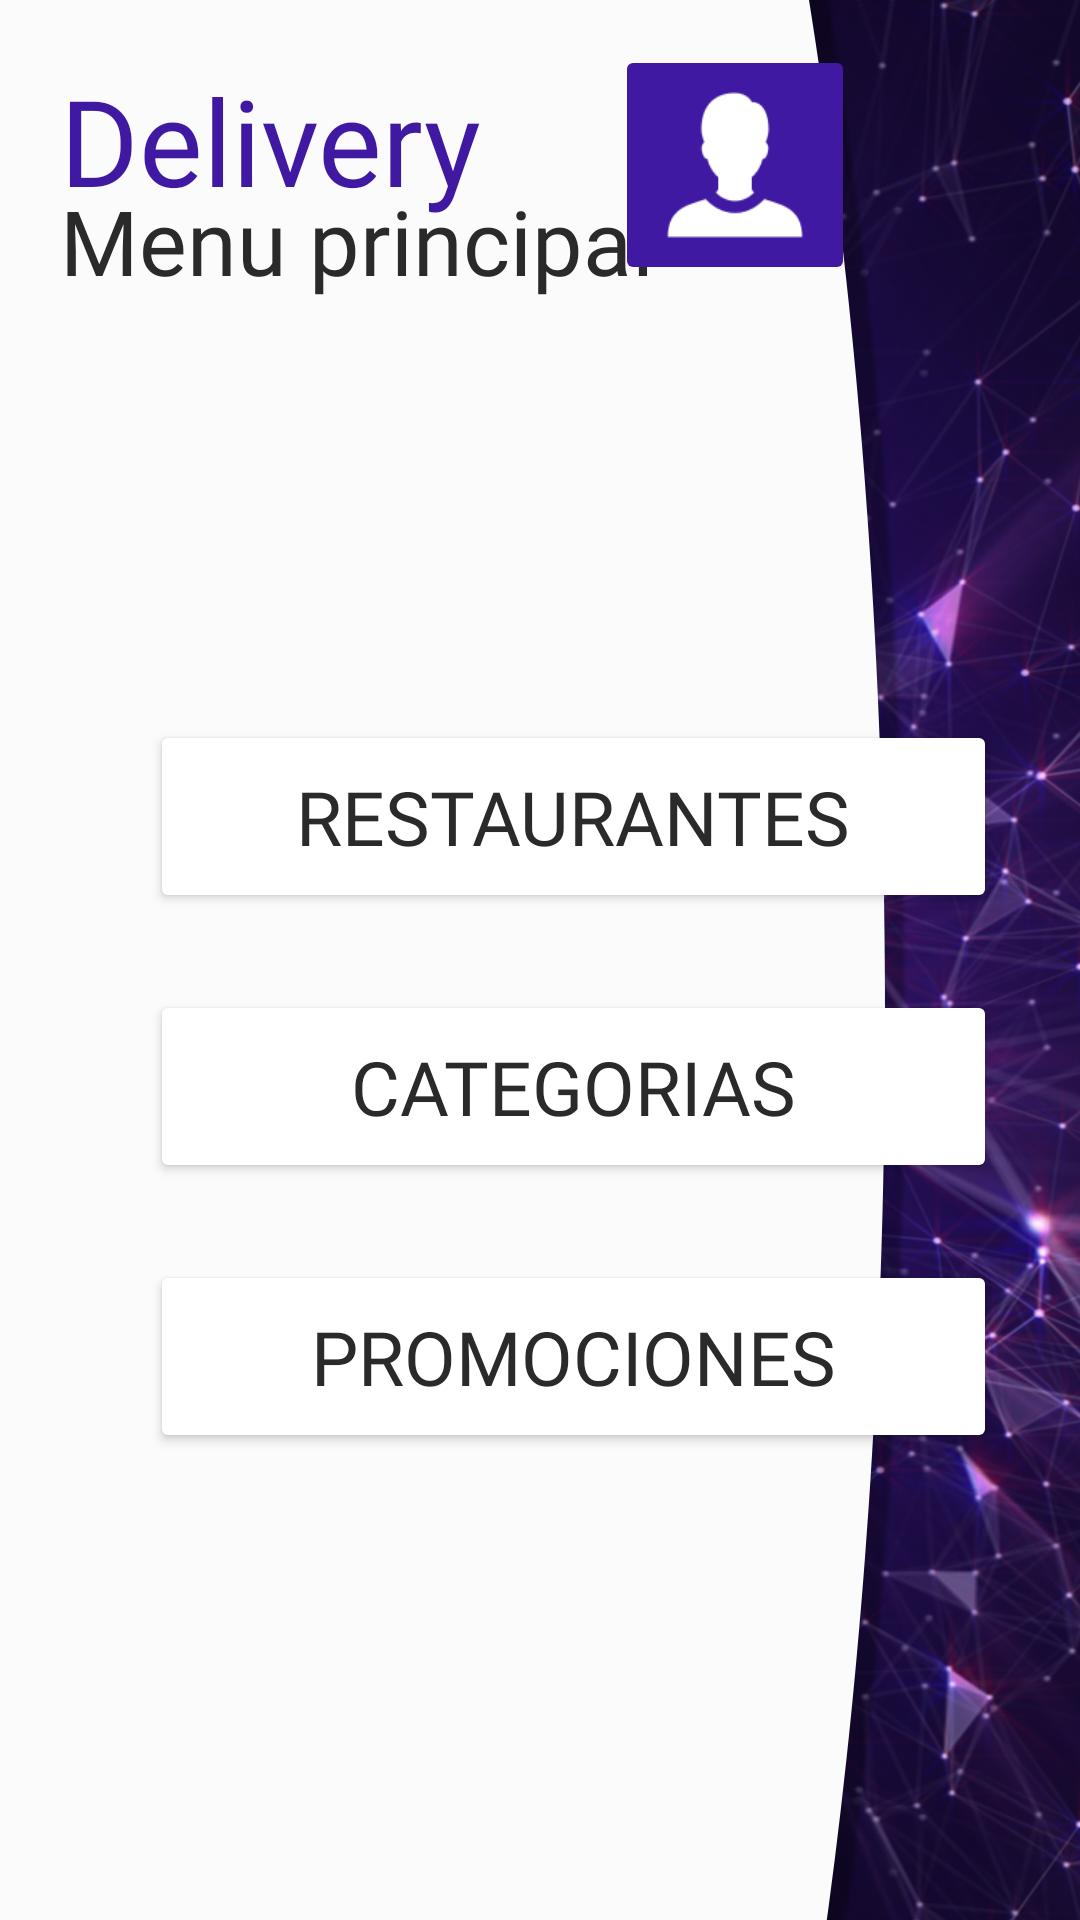

Named icons in this screenshot (1080×1920) and their centers, point (x, y):
user: point (735, 165)
